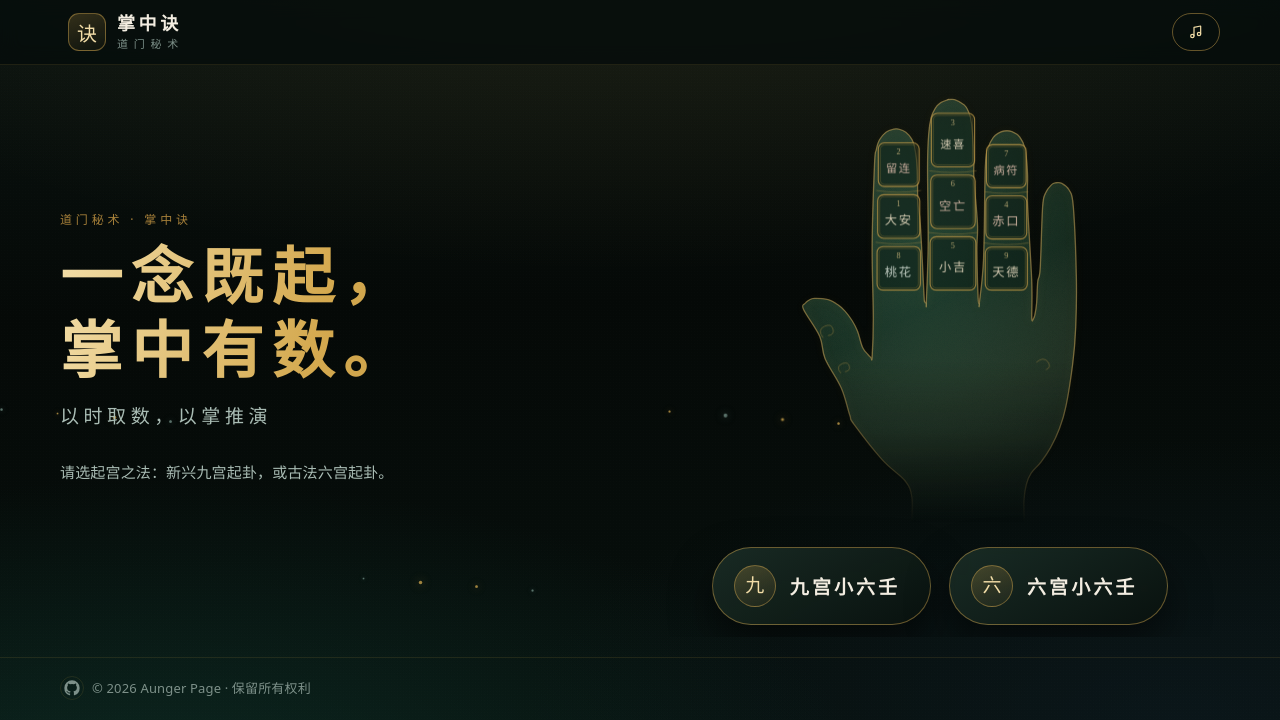
Test case: 门厅与首页 › 门厅：同一场景先择宫制，选九宫进入原首页（主标题、两种入口与九个指节宫位）
Expected: the button with test id "gate-six" is shown, [949,547,1168,625]
Expected: the number of elements with class "gate-cycle__layer" is 2, [797,83,1083,535]; [797,83,1083,535]
Click the button with test id "gate-nine".
click(821, 586)  # box [712,547,931,625]
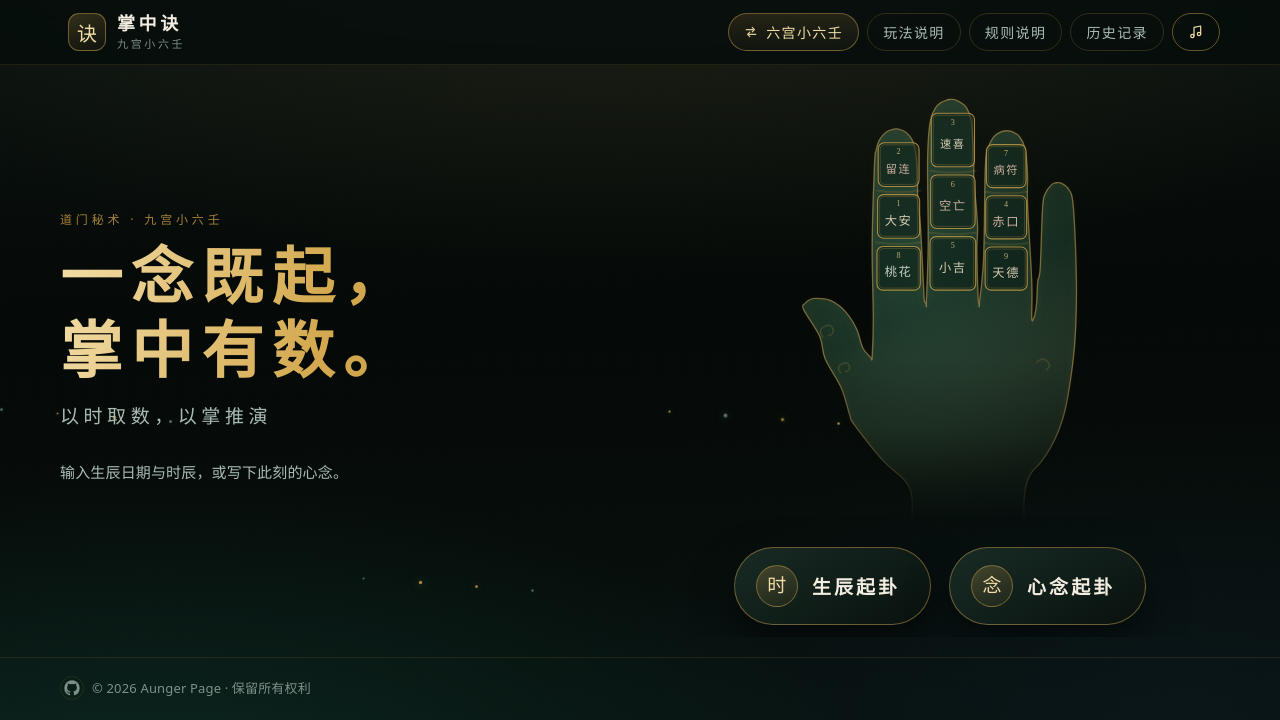
Expected: the text "一念既起" is shown, [60,244,413,312]
Expected: the button with test id "entry-birth" is shown, [734,547,931,625]
Expected: the button with test id "entry-text" is shown, [949,547,1146,625]
